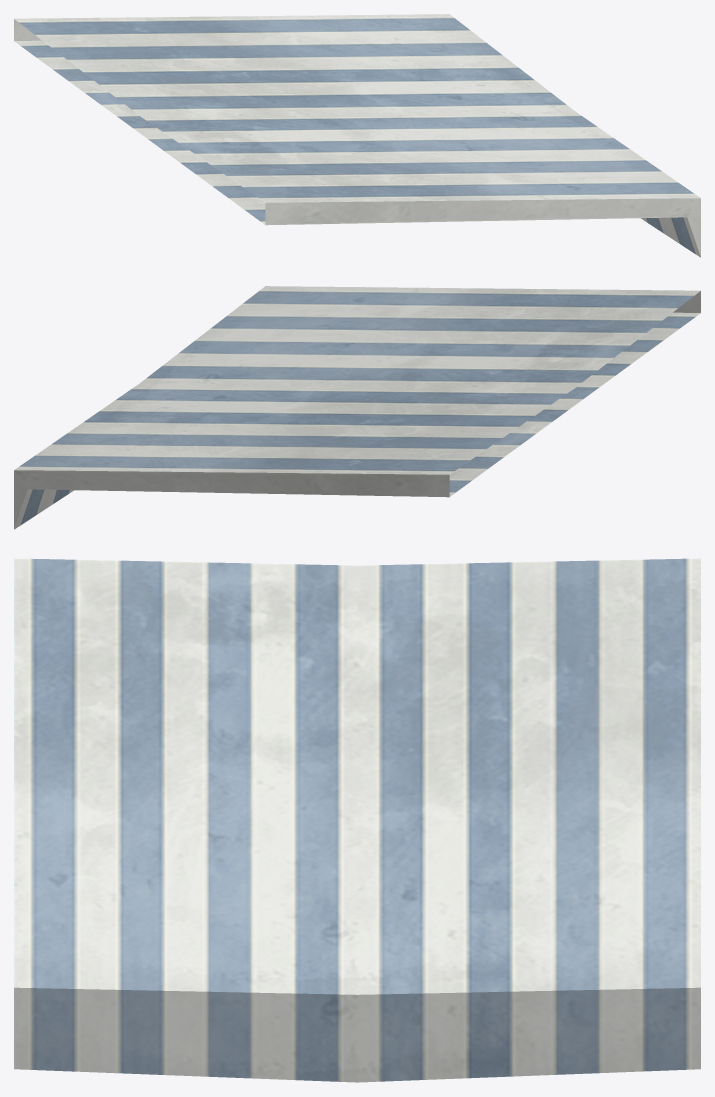
File: Prop_Canopy_03.fbx
3 renders of one model, top to bottom at view 1: azimuth 30°, elevation 25°; view 2: azimuth 150°, elevation 25°; view 3: azimuth 270°, elevation 25°, orthographic. The views are drawn at different scales.
Visible parts, largest first — view 1: Prop_Canopy_03; view 2: Prop_Canopy_03; view 3: Prop_Canopy_03.
Part boxes in pixels (box(x1,y1,x2,y2)): Prop_Canopy_03: box(14, 14, 700, 257); Prop_Canopy_03: box(14, 286, 700, 529); Prop_Canopy_03: box(14, 558, 700, 1082).
Size of the model in its own units: 250 by 93.88 by 250.
